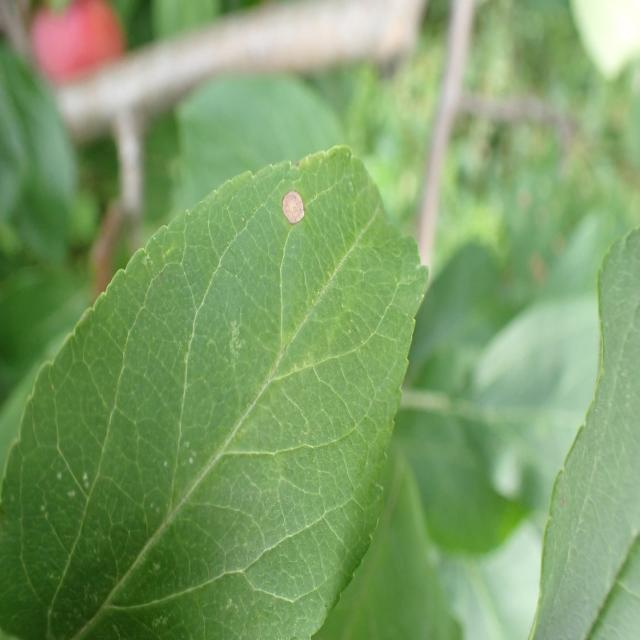Black Rot: (277, 165, 309, 242)
